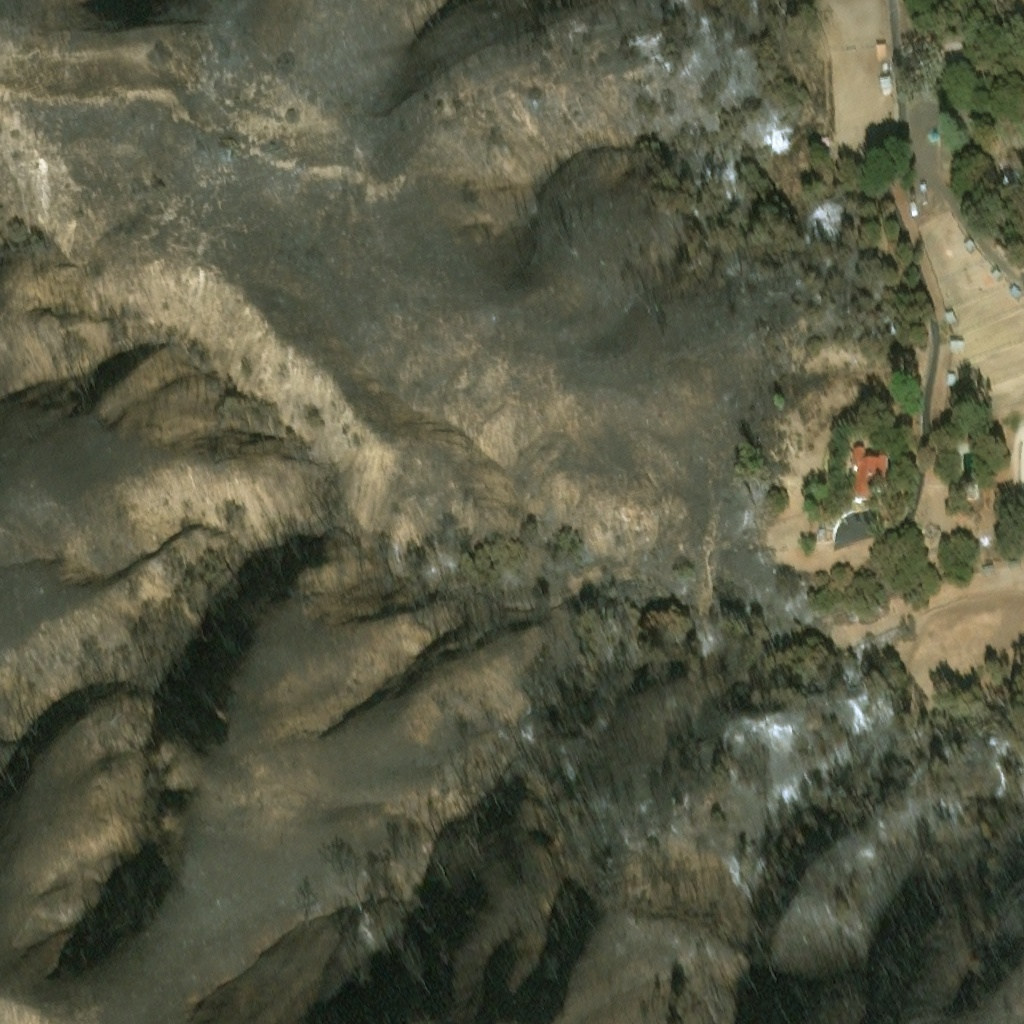0 no-damage: (851, 449, 890, 506), (923, 525, 939, 542), (875, 54, 889, 72), (873, 37, 886, 55), (993, 245, 1009, 259), (948, 339, 964, 352), (878, 72, 891, 88), (943, 309, 957, 323), (1008, 286, 1022, 299), (1006, 557, 1021, 569), (963, 239, 976, 251), (990, 269, 1002, 281), (945, 372, 955, 386), (981, 564, 994, 574), (818, 131, 828, 141), (817, 531, 825, 538)
